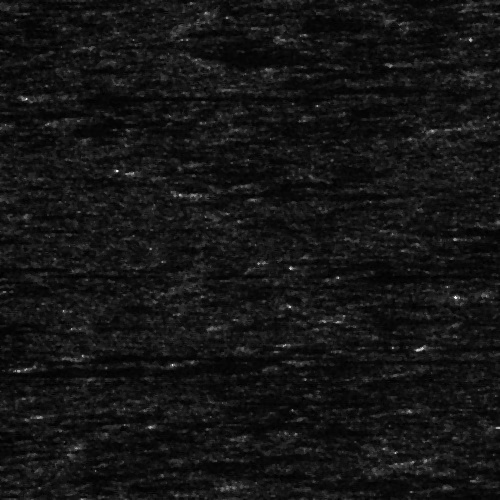object: (419, 113, 500, 136), (131, 187, 236, 196), (0, 118, 67, 131), (0, 91, 95, 100), (390, 343, 453, 350), (320, 314, 383, 319), (298, 356, 361, 361), (114, 166, 155, 171), (49, 354, 90, 359), (0, 367, 19, 374), (472, 0, 500, 2)
shadow: (43, 91, 282, 100), (0, 118, 165, 131), (69, 354, 426, 359), (184, 187, 367, 196), (0, 367, 197, 374), (329, 356, 500, 361), (352, 314, 481, 319), (135, 166, 257, 171), (422, 343, 500, 350), (477, 113, 500, 136), (0, 262, 49, 269), (0, 274, 37, 281), (0, 238, 67, 241)
